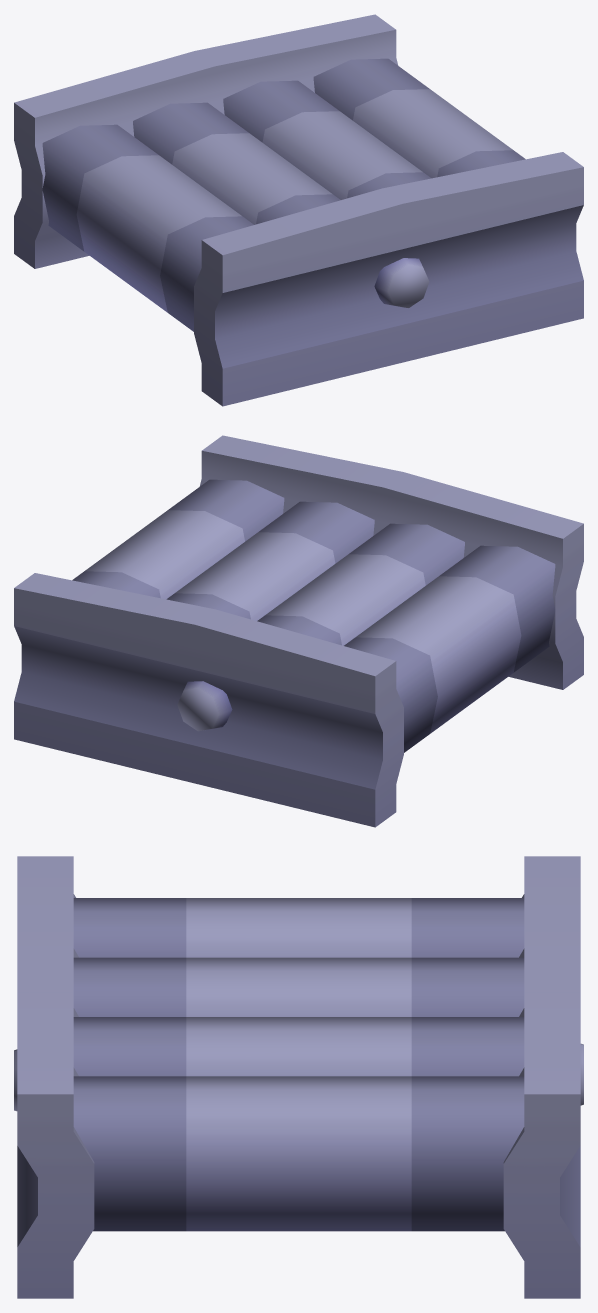
File: kenney-factory-conveyor-bars-stripe-high.glb
The picture shows the model from 3 angles, top to bottom: view 1: azimuth 30°, elevation 25°; view 2: azimuth 150°, elevation 25°; view 3: azimuth 270°, elevation 25°; orthographic projection. The views are drawn at different scales.
Visible parts, largest first — view 1: conveyor-bars-stripe-high; view 2: conveyor-bars-stripe-high; view 3: conveyor-bars-stripe-high.
Part boxes in pixels (<box>): conveyor-bars-stripe-high: <box>14,14,583,406</box>; conveyor-bars-stripe-high: <box>14,435,583,827</box>; conveyor-bars-stripe-high: <box>14,856,583,1298</box>.
Size of the model in its own units: 1 by 0.4199 by 1.01.
Materials: 1 (1 with a texture image).
